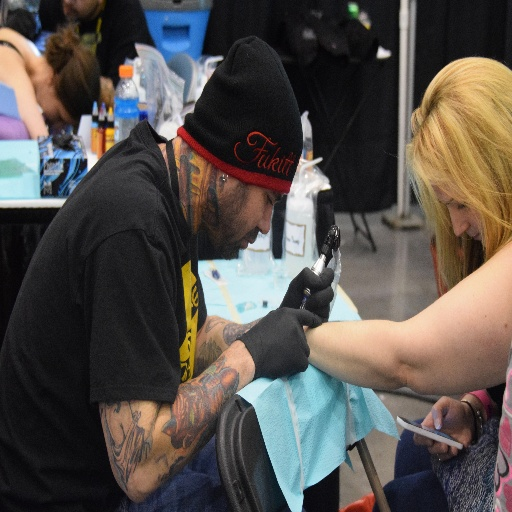hand: (414, 377, 499, 470), (246, 307, 322, 377), (279, 263, 335, 320)
